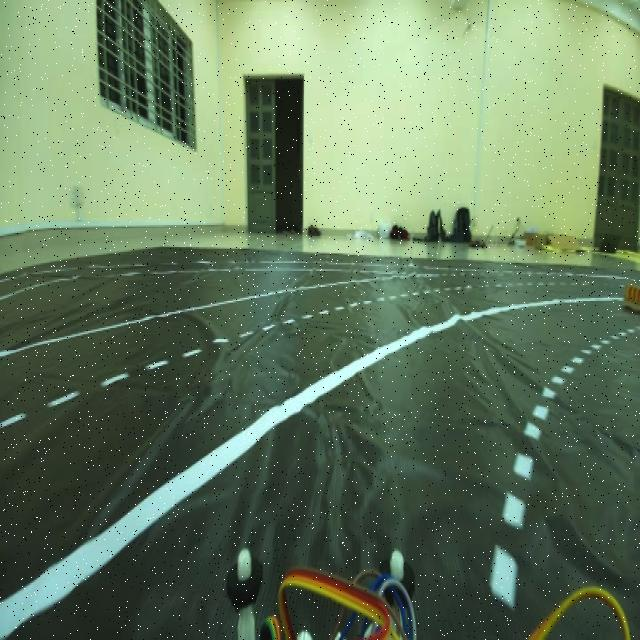roadblock: (619, 272, 640, 315)
